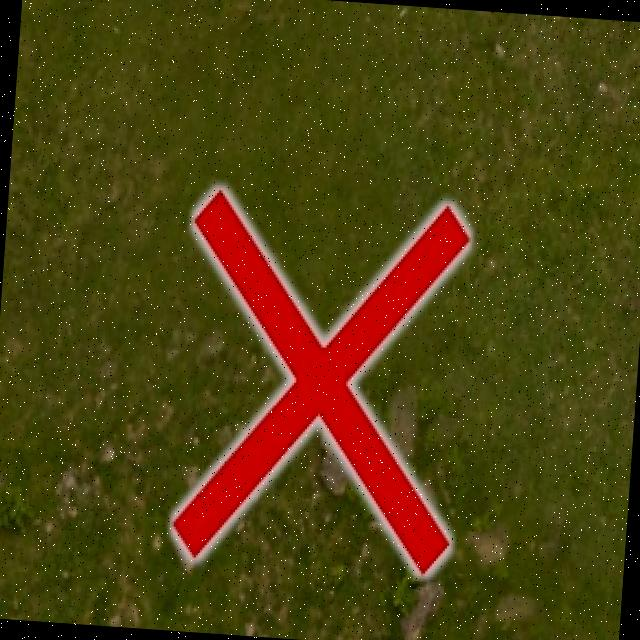x_marker: (170, 187, 472, 573)
